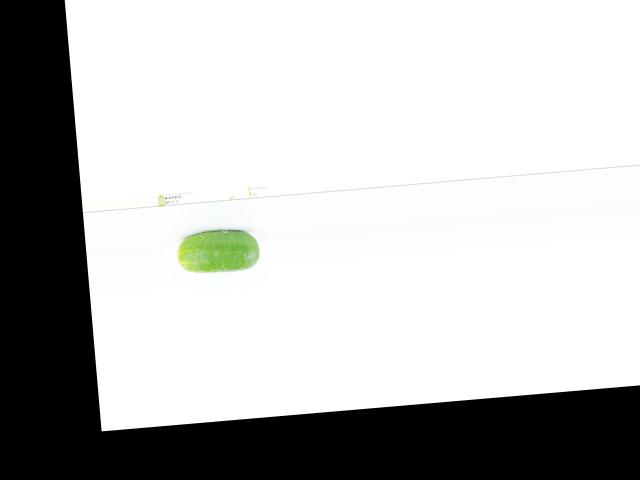cucumber: (176, 226, 261, 275)
